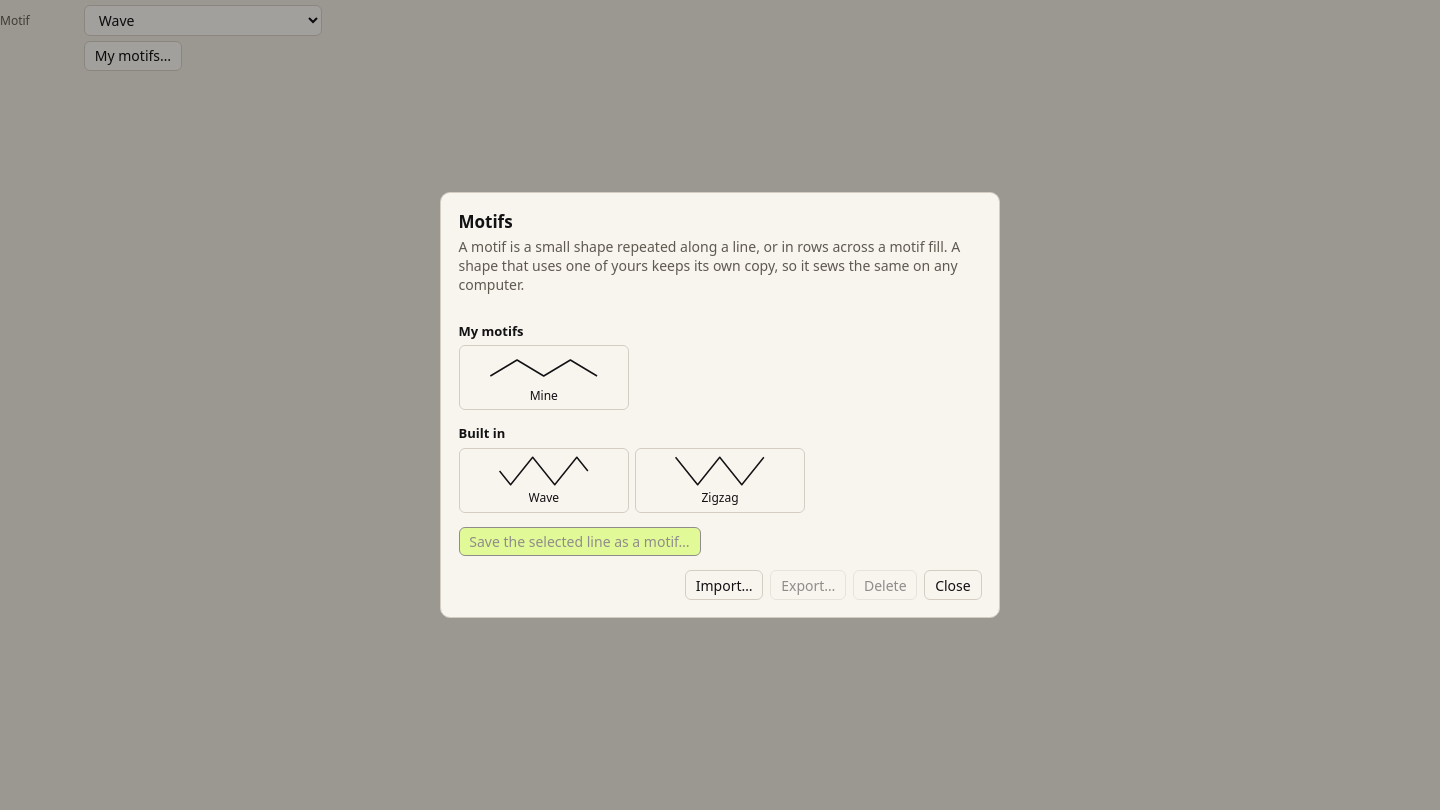
Test case: the Motifs window › Delete asks first, saying shapes that use it keep their copy
Expected: the button "Delete" is disabled, [853,570,917,600]
Click the button "Wave": click(544, 480) [458,448,629,513]
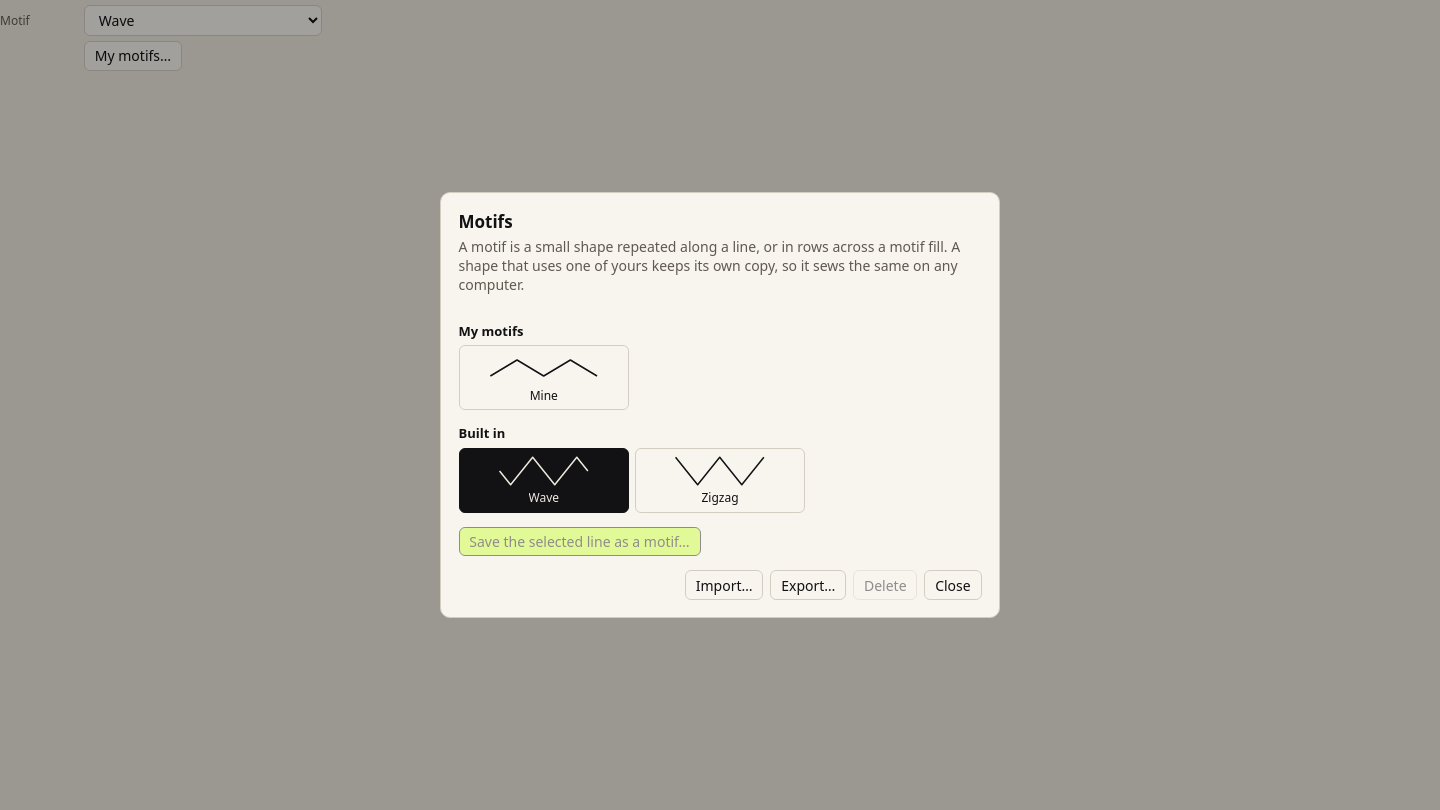
Expected: the button "Delete" is disabled, [853,570,917,600]
Expected: the button "Export…" is enabled, [770,570,846,600]
Click the button "Mine": click(544, 378) [458,345,629,410]
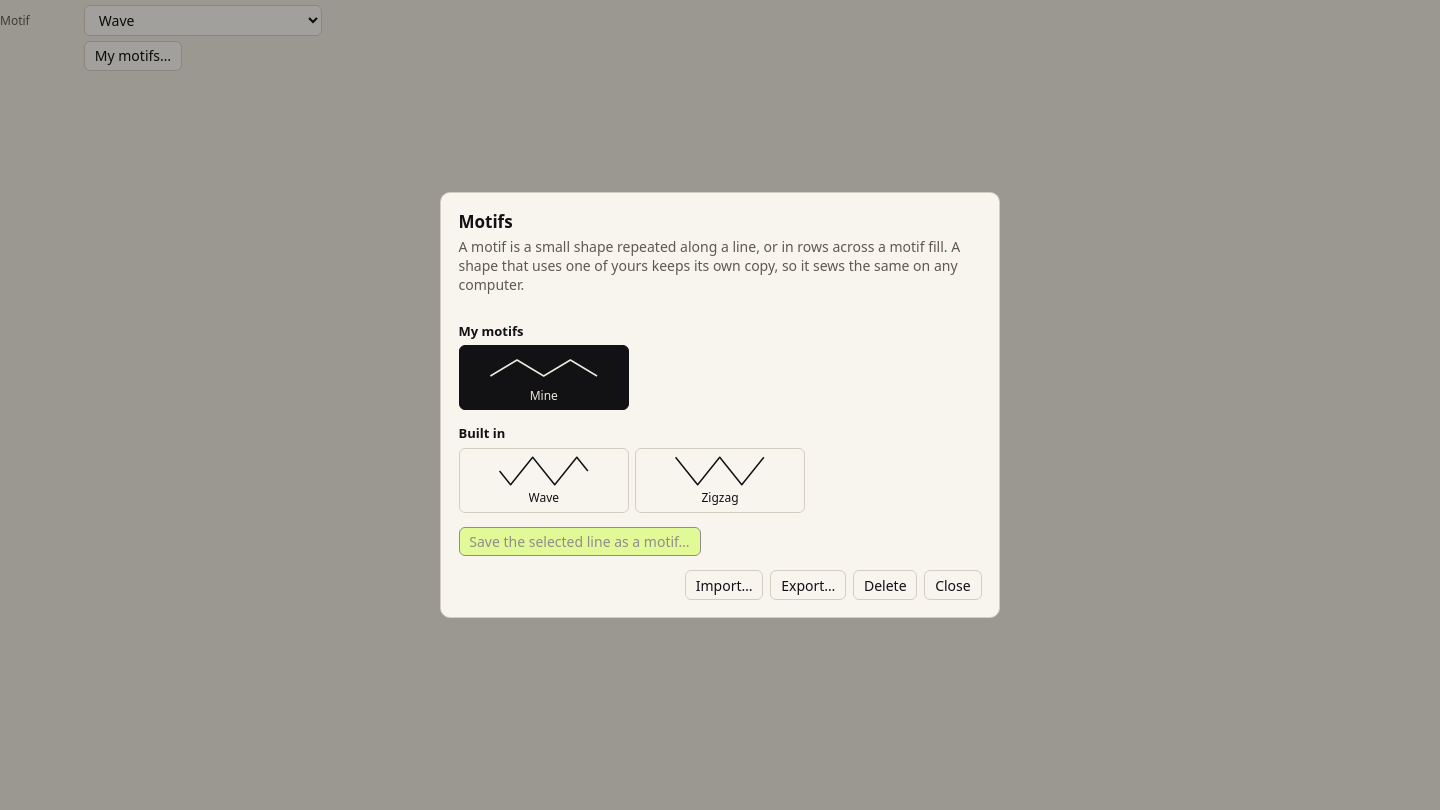
Click the button "Delete": click(885, 585) [853,570,917,600]
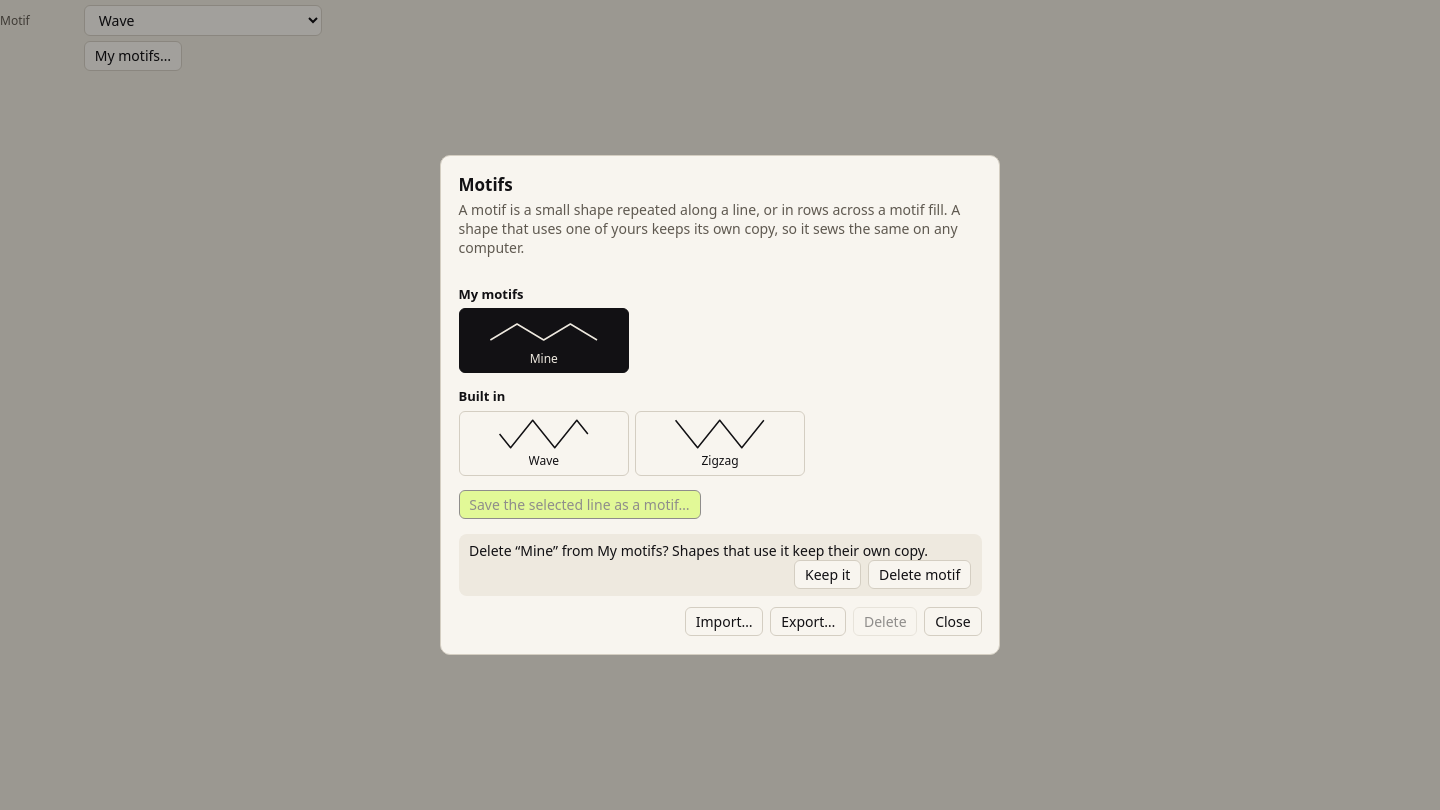
Expected: the dialog shows "Delete “Mine” from My motifs? Shapes that use it keep their own copy.", [458,534,982,596]
Click the button "Keep it": click(828, 575) [794,560,861,589]
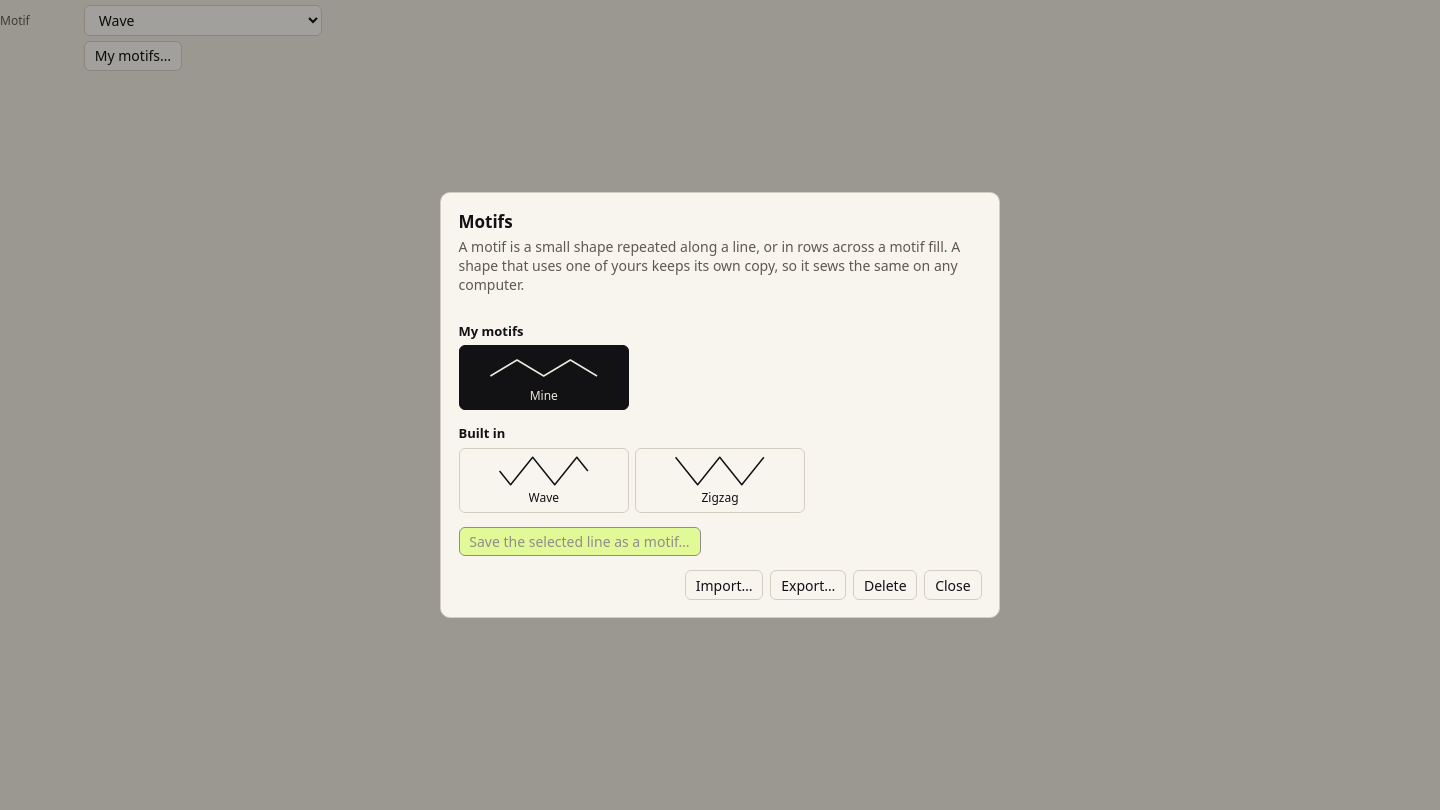
Expected: the dialog is gone
Click the button "Delete": click(885, 585) [853,570,917,600]
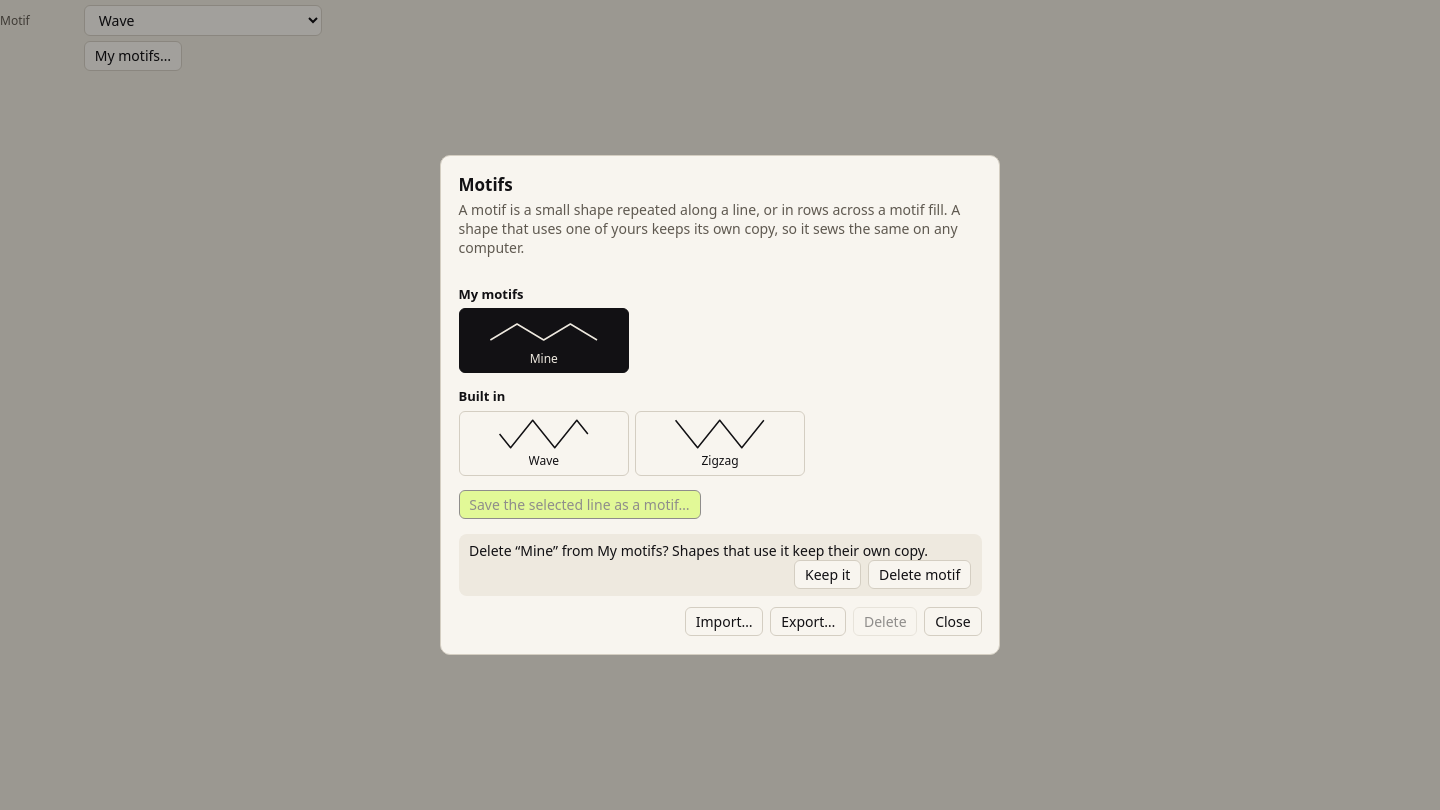
Click the button "Delete motif": click(920, 575) [868,560,971,589]
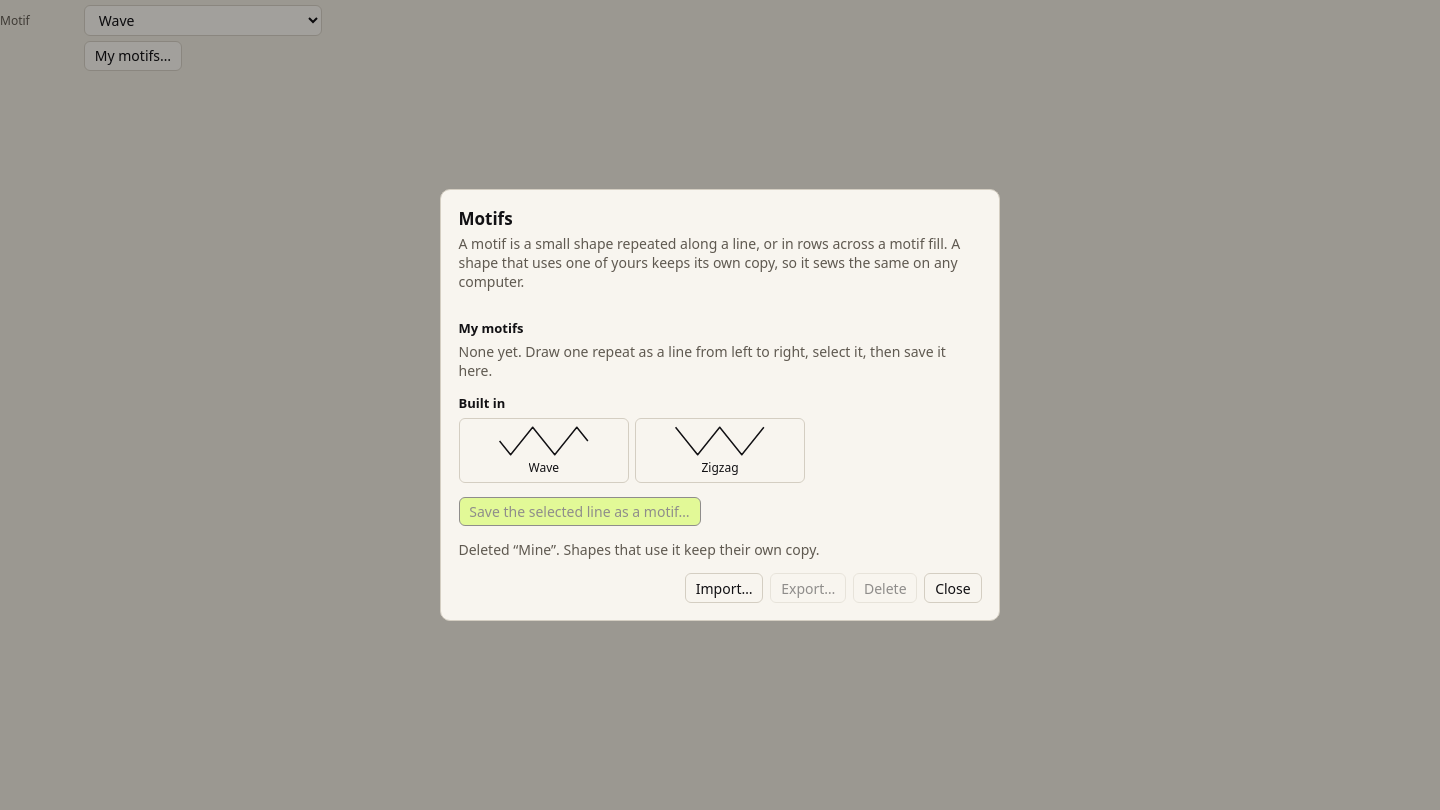
Expected: the dialog shows "Deleted “Mine”. Shapes that use it keep their own copy.", [458,540,820,559]
